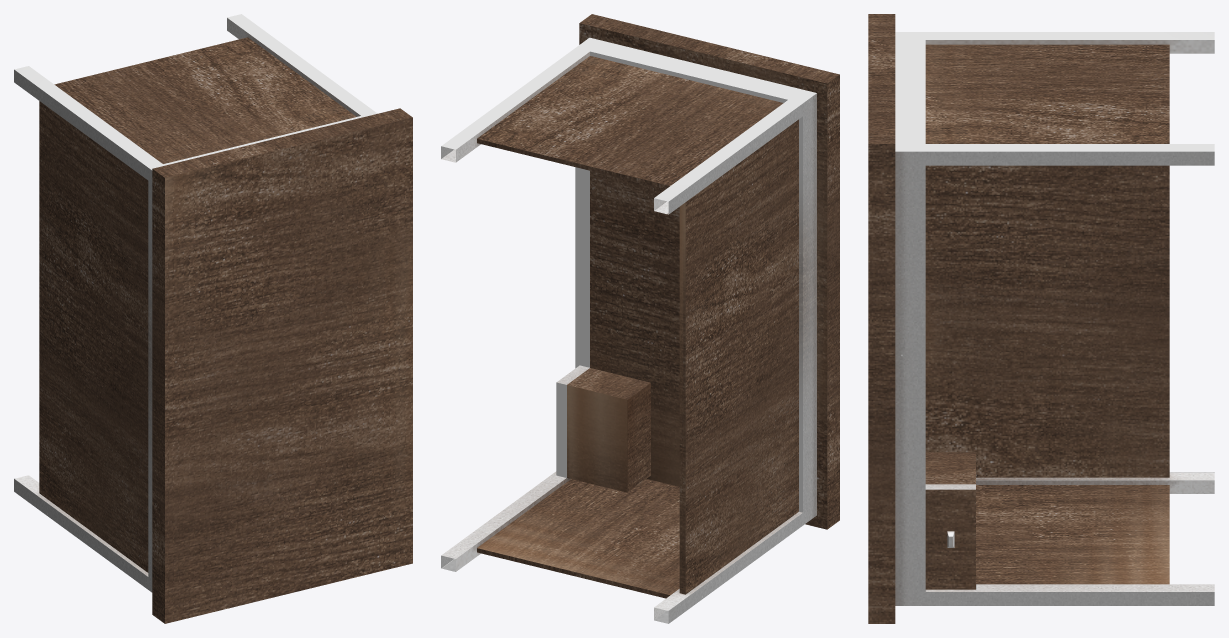
Rendered from dark_wood.dae.
3 views of the same model, side by side, from view 1: azimuth 30°, elevation 25°; view 2: azimuth 150°, elevation 25°; view 3: azimuth 270°, elevation 25° (orthographic). The views are drawn at different scales.
Visible parts, largest first — view 1: Desk_Desk_Cube; view 2: Desk_Desk_Cube; view 3: Desk_Desk_Cube.
Part boxes in pixels (x1,y1,x2,y2): Desk_Desk_Cube: (14,14,412,623); Desk_Desk_Cube: (441,14,839,623); Desk_Desk_Cube: (868,14,1214,623).
Size of the model in its own units: 0.4906 by 0.552 by 0.8437.
1 material, 1 textured.
